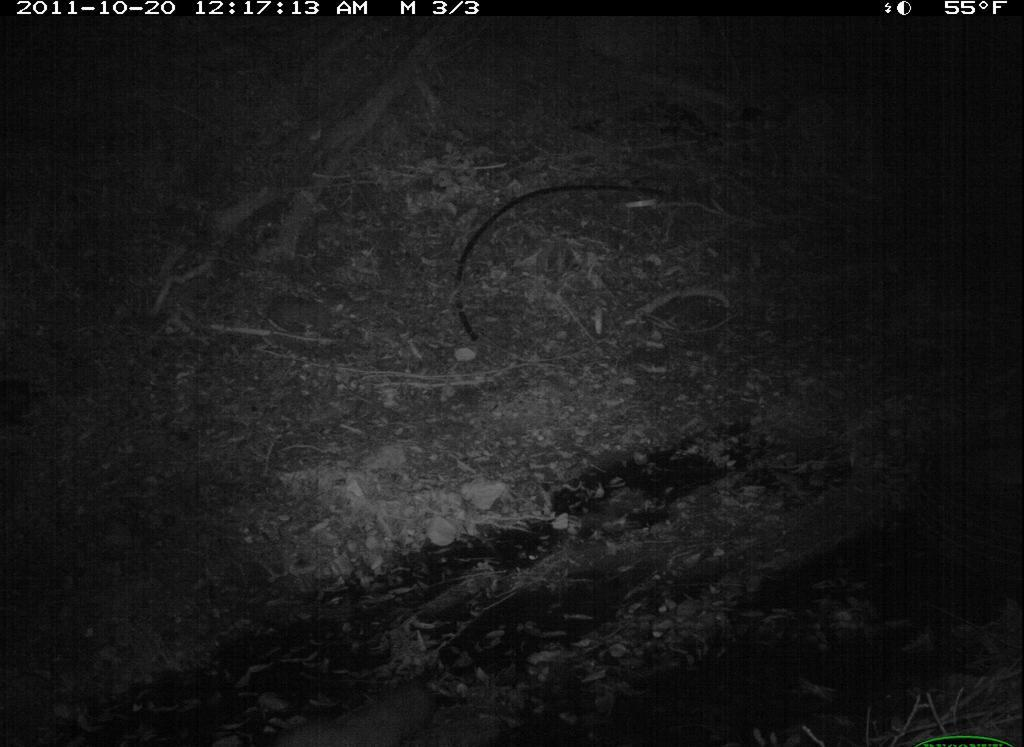raccoon: (244, 670, 479, 747)
